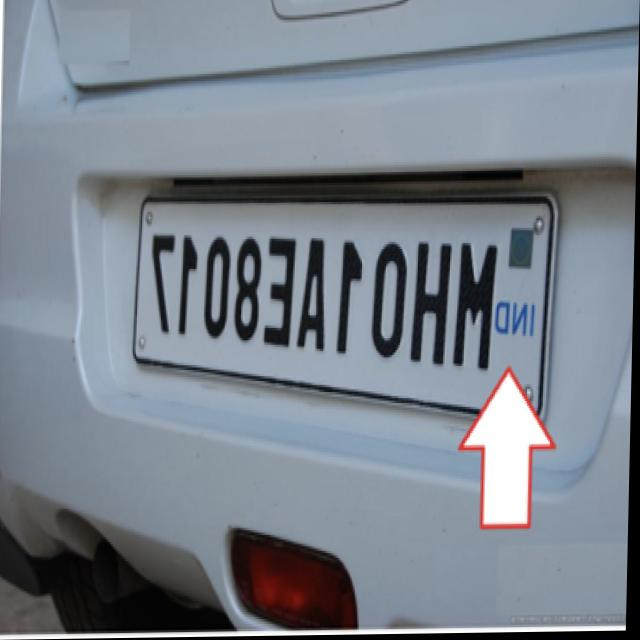licence: (139, 203, 544, 376)
